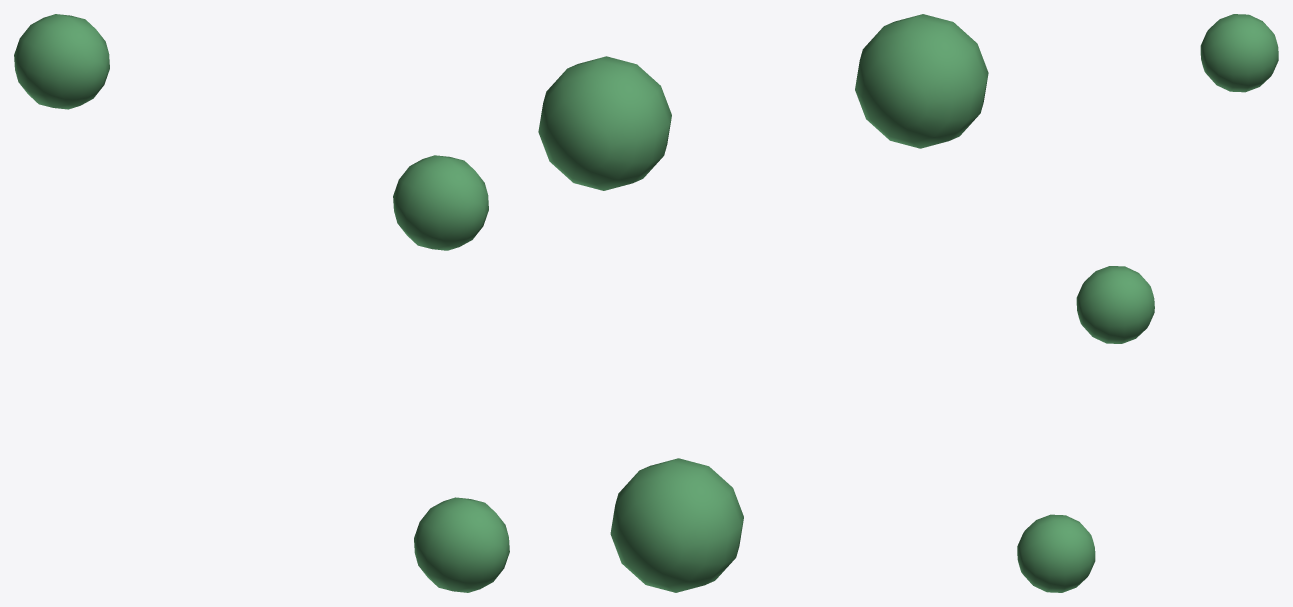
The picture shows the model from 3 angles, left to right: view 1: azimuth 30°, elevation 25°; view 2: azimuth 150°, elevation 25°; view 3: azimuth 270°, elevation 25°; orthographic projection. The views are drawn at different scales.
Parts seen in each view (by area): view 1: 胰十二指肠上淋巴结; view 2: 胰十二指肠上淋巴结; view 3: 胰十二指肠上淋巴结.
Boxes of the visible parts, x1,y1,x2,y2 form: 胰十二指肠上淋巴结: (14, 14, 509, 592); 胰十二指肠上淋巴结: (538, 14, 988, 592); 胰十二指肠上淋巴结: (1017, 14, 1278, 592).
Bounding box in the file's own units: 0.0176 × 0.0243 × 0.0126.
